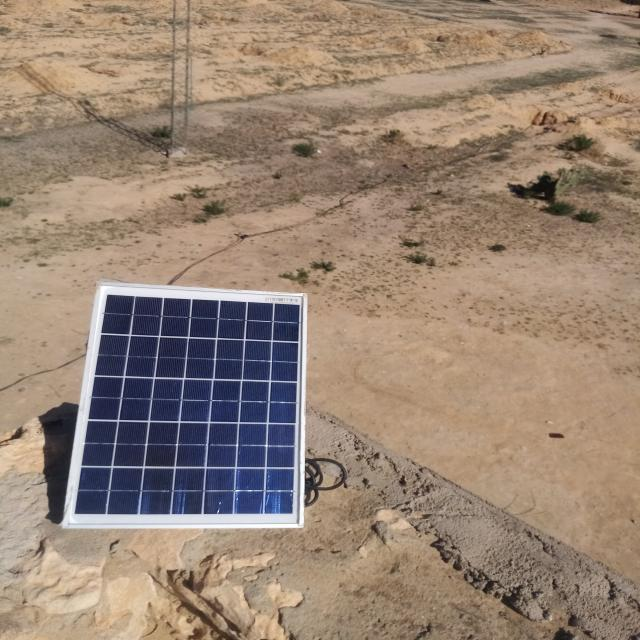no faulty: (59, 286, 304, 528)
